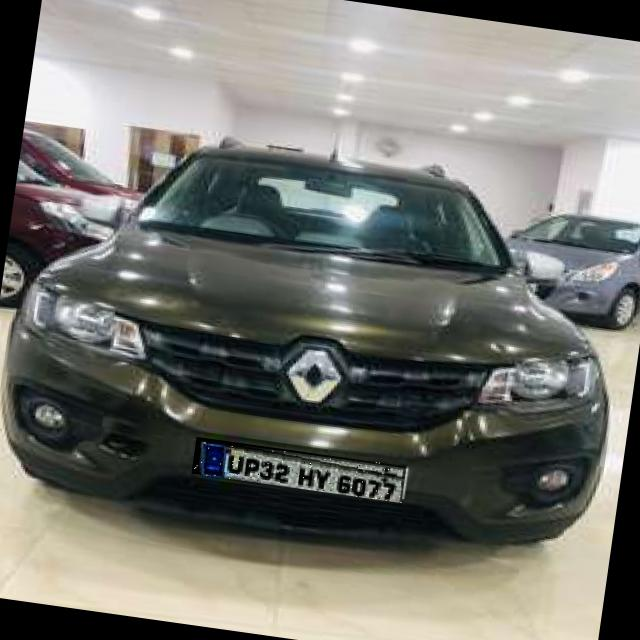Plate: (193, 438, 408, 504)
